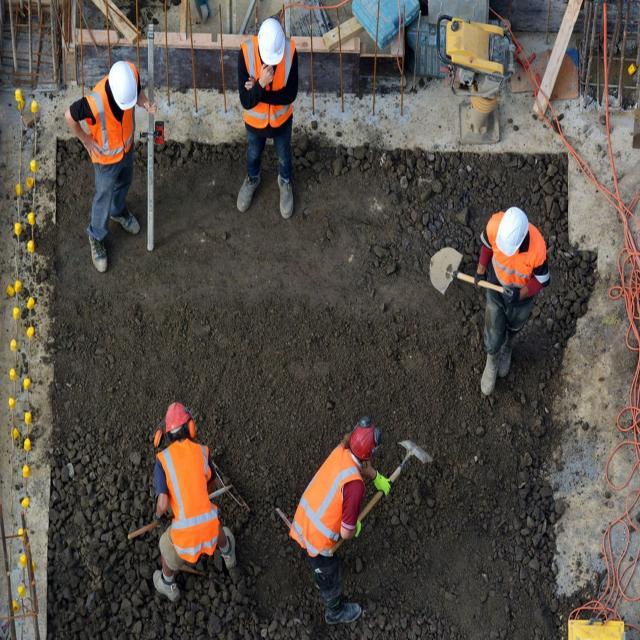Helmet: (496, 210, 531, 255), (258, 19, 286, 67), (109, 64, 138, 110), (352, 423, 380, 461), (165, 405, 190, 443)
Jacket: (300, 454, 360, 545), (165, 441, 210, 559), (246, 54, 295, 132), (487, 243, 546, 295), (92, 97, 135, 164)
